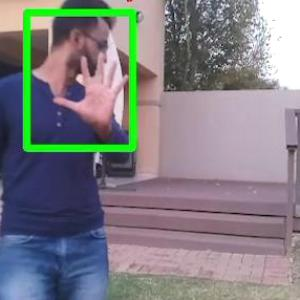follow_hand: (52, 47, 134, 131)
